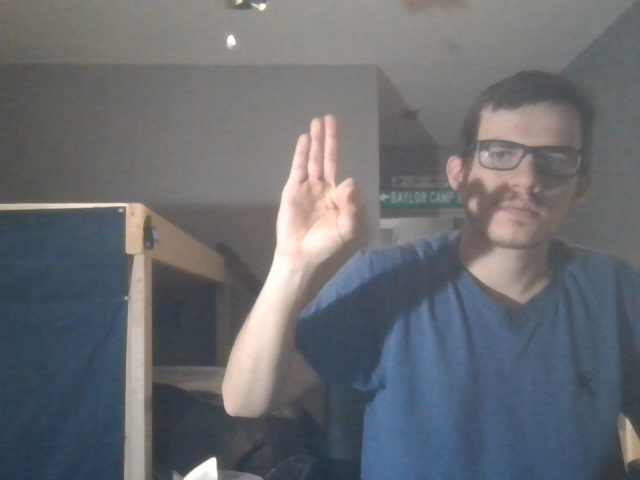F: (268, 111, 369, 273)
